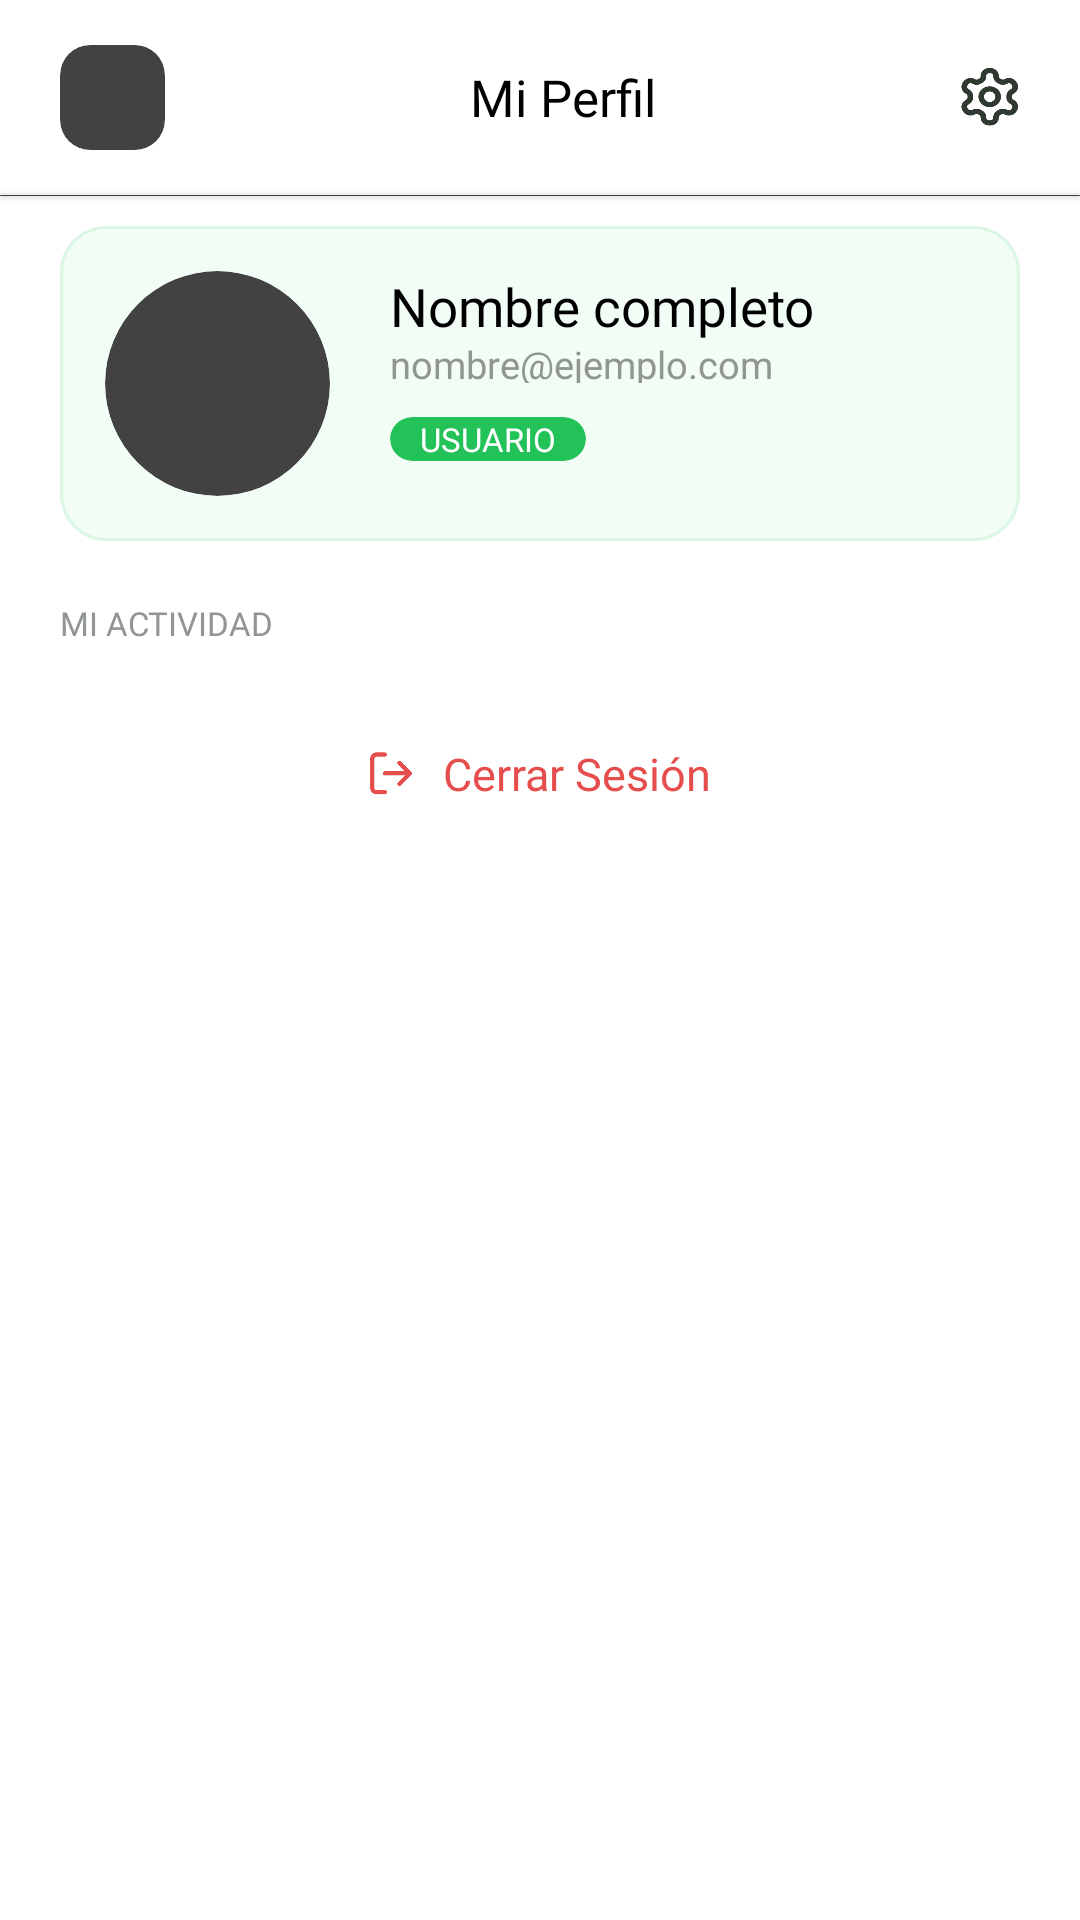

Named icons in this screenshot (1080w x 1920h) and their centers, (x=x, y=y):
cerrar sesion: (x=391, y=773)
configuracion: (x=989, y=97)
